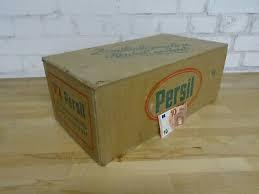box: (42, 32, 228, 167)
